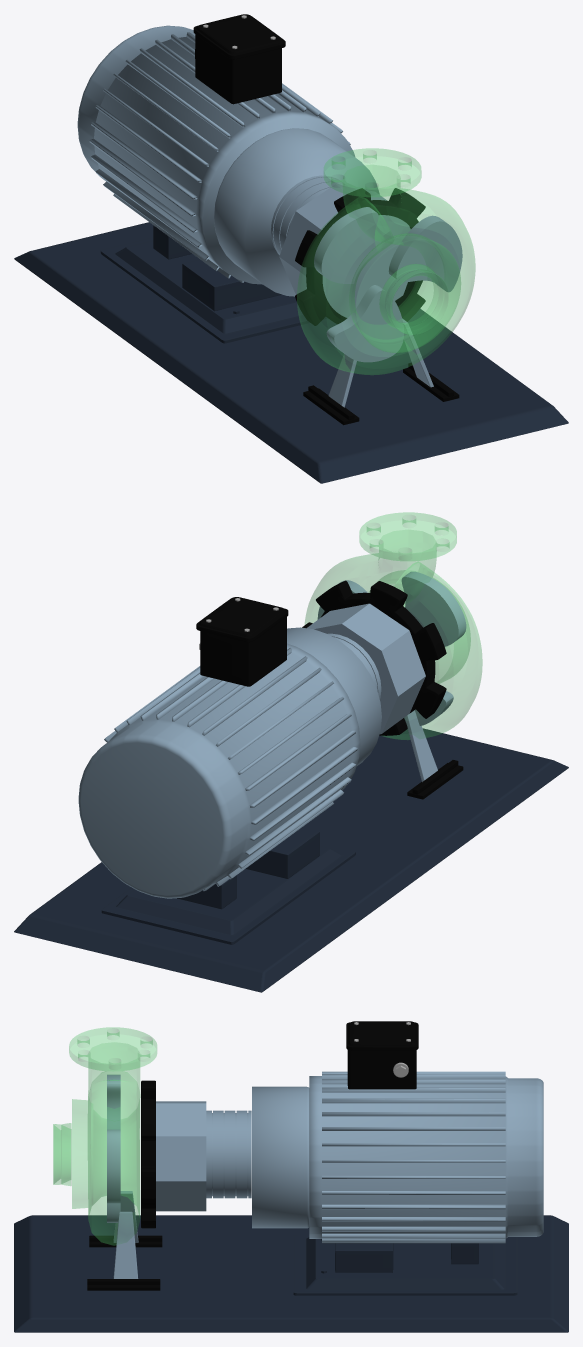
Rendered from 冷却泵.glb.
3 renders of one model, top to bottom at view 1: azimuth 30°, elevation 25°; view 2: azimuth 150°, elevation 25°; view 3: azimuth 270°, elevation 25°, orthographic. The views are drawn at different scales.
Parts seen in each view (by area): view 1: 立方体042, 柱体044, 柱体036, 立方体043, 柱体037, 立方体050, 柱体034, Gear001, 柱体035, 柱体044_1, 立方体049, 立方体047; view 2: 立方体042, 柱体036, 柱体044, 立方体050, 柱体034, Gear001, 柱体037, 立方体043, 立方体049, 柱体044_1, 柱体035; view 3: 立方体042, 柱体036, 柱体044, 柱体037, 柱体034, 立方体050, 柱体035, Gear001, 立方体043, 立方体047, 柱体044_1, 立方体049 (+2 smaller).
Boxes of the visible parts, box(x1,y1,x2,y2) form: 立方体042: box(14, 222, 568, 483); 柱体044: box(297, 148, 475, 374); 柱体036: box(77, 25, 354, 284); 立方体043: box(314, 207, 462, 362); 柱体037: box(214, 128, 379, 296); 立方体050: box(193, 14, 285, 104); 柱体034: box(279, 184, 410, 317); Gear001: box(295, 188, 425, 325); 柱体035: box(271, 175, 346, 255); 柱体044_1: box(331, 150, 411, 195); 立方体049: box(328, 354, 356, 407); 立方体047: box(402, 319, 433, 387); 立方体042: box(14, 728, 568, 992); 柱体036: box(78, 643, 360, 898); 柱体044: box(305, 512, 482, 739); 立方体050: box(196, 597, 288, 686); 柱体034: box(307, 603, 425, 734); Gear001: box(302, 580, 446, 735); 柱体037: box(287, 627, 381, 765); 立方体043: box(317, 571, 466, 725); 立方体049: box(404, 710, 437, 781); 柱体044_1: box(367, 515, 449, 560); 柱体035: box(328, 633, 381, 699); 立方体042: box(14, 1215, 568, 1332); 柱体036: box(309, 1071, 543, 1243); 柱体044: box(53, 1027, 156, 1245); 柱体037: box(252, 1086, 309, 1228); 柱体034: box(156, 1101, 206, 1211); 立方体050: box(346, 1021, 418, 1089); 柱体035: box(206, 1110, 251, 1198); Gear001: box(141, 1080, 155, 1228); 立方体043: box(107, 1074, 120, 1222); 立方体047: box(113, 1211, 138, 1278); 柱体044_1: box(77, 1028, 152, 1069); 立方体049: box(113, 1191, 138, 1242).
Size of the model in its own units: 43.9 by 46.06 by 94.14.
